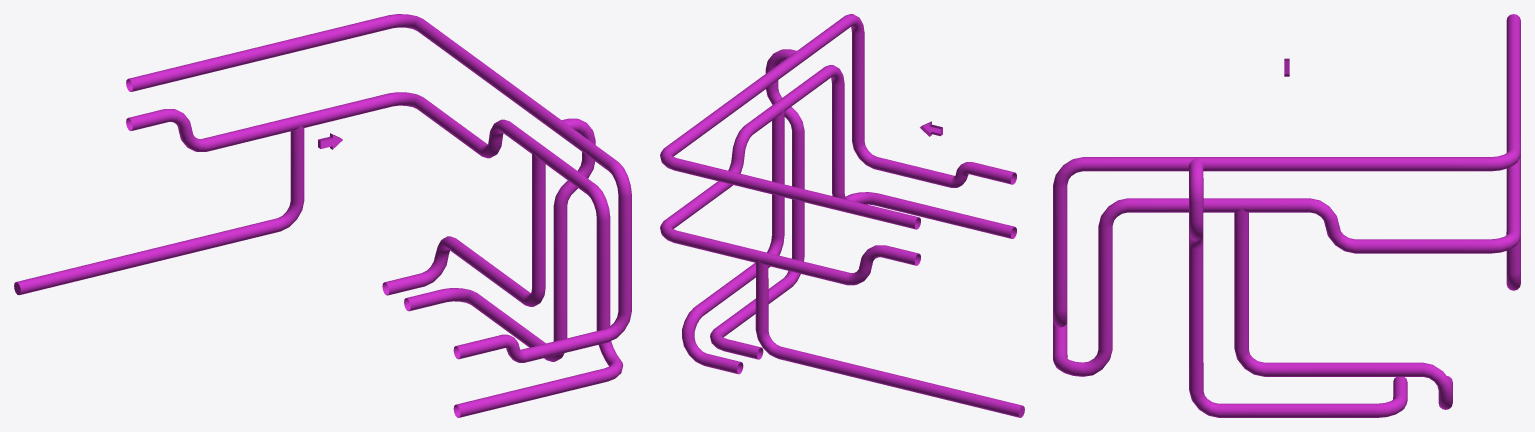
File: Pipes_Water.fbx
3 renders of one model, left to right at view 1: azimuth 30°, elevation 25°; view 2: azimuth 150°, elevation 25°; view 3: azimuth 270°, elevation 25°, orthographic. The views are drawn at different scales.
Parts seen in each view (by area): view 1: Water1, Water0; view 2: Water1, Water0; view 3: Water1.
Part boxes in pixels (box(x1,y1,x2,y2)): Water1: box(91, 14, 631, 417); Water0: box(14, 264, 95, 295); Water1: box(660, 14, 1016, 400); Water0: box(949, 389, 1024, 417); Water1: box(1053, 14, 1520, 417).
Size of the model in its own units: 228 by 127 by 206.
